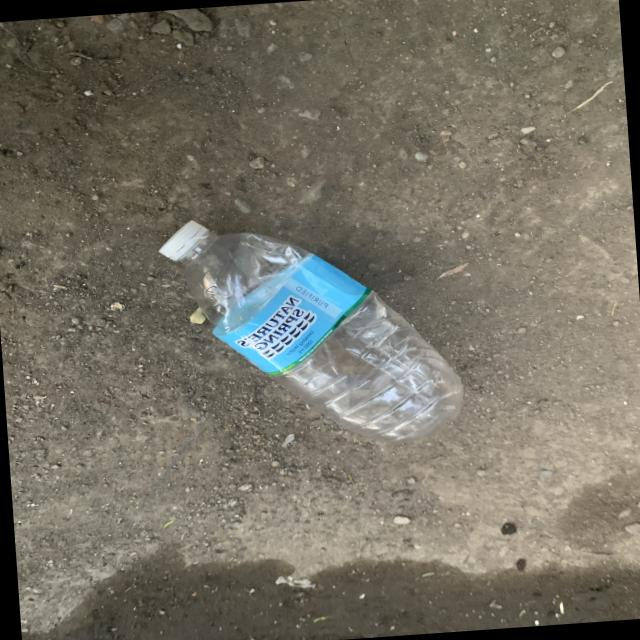Bottle: (159, 221, 462, 440)
